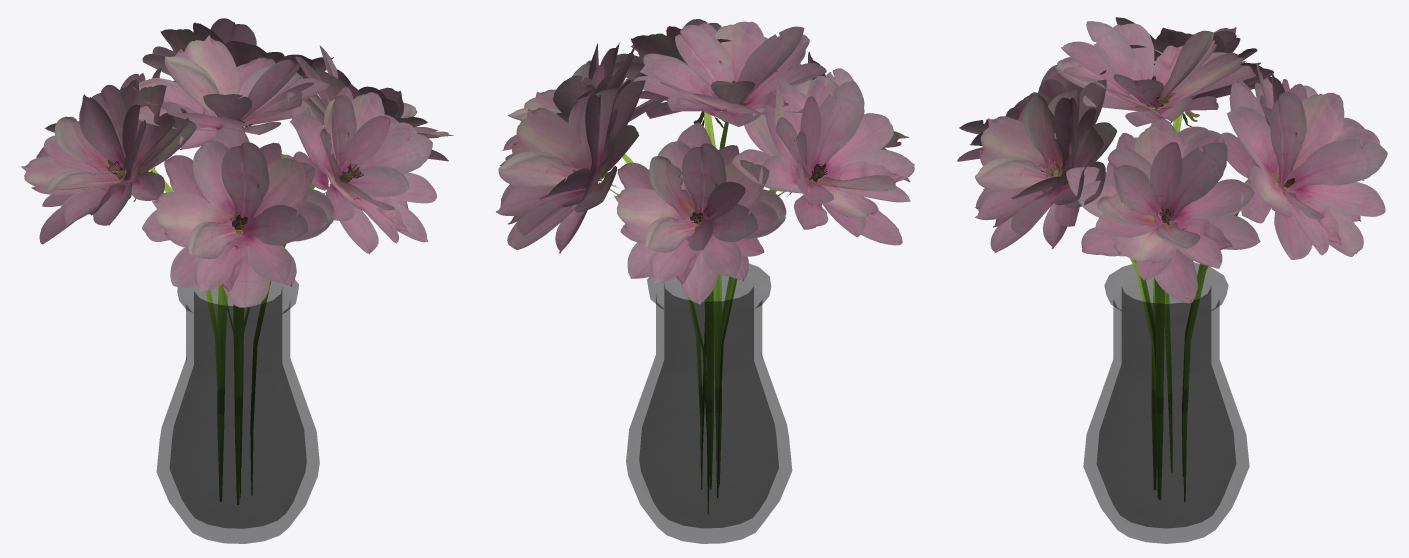
Rendered from magnolia_in_a_vase_small-and-light.glb.
3 views of the same model, side by side, from view 1: azimuth 30°, elevation 25°; view 2: azimuth 150°, elevation 25°; view 3: azimuth 270°, elevation 25° (orthographic).
Visible parts, largest first — view 1: flowers_magnolia_003; view 2: flowers_magnolia_003; view 3: flowers_magnolia_003.
Boxes of the visible parts, x1=… form: flowers_magnolia_003: x1=21, y1=18, x2=453, y2=543; flowers_magnolia_003: x1=496, y1=19, x2=914, y2=543; flowers_magnolia_003: x1=957, y1=17, x2=1387, y2=543.
Bounding box in the file's own units: 0.2664 × 0.2977 × 0.2532.
4 materials, 2 textured.
